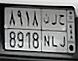1: (25, 11, 31, 48)
8: (8, 11, 17, 48), (32, 11, 39, 49)
9: (16, 10, 24, 49)
J: (58, 14, 66, 48)
L: (51, 14, 58, 49)
N: (43, 13, 50, 48)
